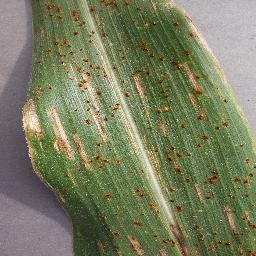Gray_Leaf_Spot: (43, 103, 76, 161), (12, 101, 46, 149), (132, 66, 174, 99), (174, 60, 209, 96), (76, 48, 105, 85), (165, 147, 194, 181), (186, 5, 210, 45), (167, 222, 194, 256), (195, 224, 223, 256), (45, 38, 77, 65), (148, 137, 165, 185), (222, 236, 256, 256), (165, 181, 184, 212), (224, 206, 244, 235), (84, 101, 104, 130), (125, 233, 150, 256), (30, 0, 44, 41), (86, 22, 110, 45), (85, 157, 122, 171), (125, 111, 138, 150), (45, 0, 67, 22), (192, 183, 214, 205), (136, 38, 156, 61), (111, 224, 125, 256), (217, 82, 233, 107), (191, 100, 209, 122), (71, 7, 87, 30), (99, 0, 132, 11), (27, 150, 40, 177), (80, 85, 103, 100), (153, 233, 168, 256), (104, 102, 123, 120), (154, 118, 172, 137), (194, 131, 212, 149), (33, 83, 54, 98), (51, 187, 68, 204), (67, 221, 83, 239), (77, 132, 89, 156), (243, 211, 256, 233), (232, 174, 252, 188), (149, 0, 179, 9), (216, 57, 226, 81), (214, 117, 229, 133), (92, 238, 105, 256), (148, 198, 162, 214), (242, 155, 256, 171), (206, 170, 220, 185), (88, 0, 99, 19), (65, 169, 81, 181), (142, 19, 158, 30), (95, 143, 113, 152), (134, 187, 147, 199), (99, 130, 113, 141), (205, 44, 216, 58), (155, 107, 173, 115), (102, 193, 116, 201), (130, 219, 141, 229), (33, 58, 43, 69), (159, 54, 170, 64), (178, 119, 187, 131), (171, 19, 182, 28), (111, 62, 119, 74), (181, 50, 194, 57), (70, 29, 80, 38), (121, 89, 131, 98), (227, 191, 235, 202), (236, 142, 246, 149), (134, 5, 141, 12), (244, 193, 253, 198), (121, 79, 127, 85)
